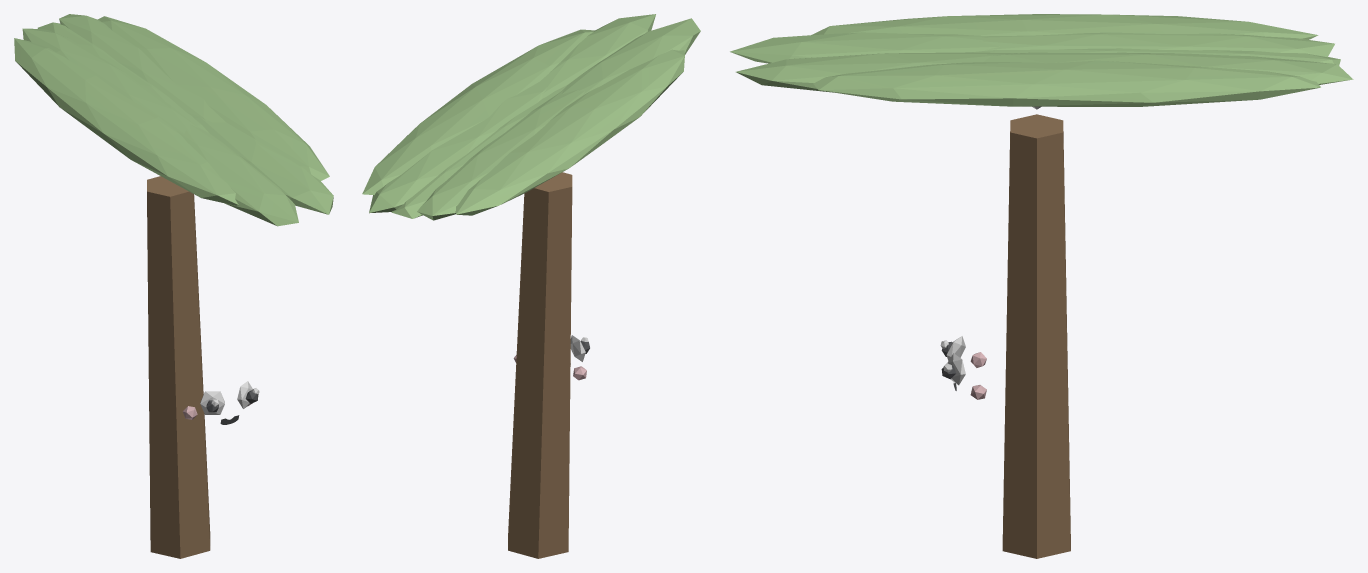
Rendered from calamus-formosanus.glb.
3 renders of one model, left to right at view 1: azimuth 30°, elevation 25°; view 2: azimuth 150°, elevation 25°; view 3: azimuth 270°, elevation 25°, orthographic. The views are drawn at different scales.
Parts seen in each view (by area): view 1: trunk, frond3, frond0, frond2, frond1, frond6, frond4, frond5; view 2: trunk, frond3, frond0, frond6, frond4, frond2, frond1, frond5; view 3: trunk, frond0, frond3, frond4, frond2, frond1, frond6, frond5.
Part boxes in pixels (bbox=[...]): trunk: bbox=[147, 176, 210, 558]; frond3: bbox=[14, 38, 238, 205]; frond0: bbox=[98, 16, 329, 180]; frond2: bbox=[177, 124, 298, 226]; frond1: bbox=[192, 116, 333, 214]; frond6: bbox=[59, 14, 225, 122]; frond4: bbox=[22, 28, 199, 133]; frond5: bbox=[37, 22, 209, 133]; trunk: bbox=[508, 172, 572, 558]; frond3: bbox=[455, 49, 684, 215]; frond0: bbox=[362, 29, 594, 194]; frond6: bbox=[369, 81, 546, 213]; frond4: bbox=[417, 89, 584, 220]; frond2: bbox=[561, 18, 700, 94]; frond1: bbox=[540, 14, 655, 98]; frond5: bbox=[391, 85, 566, 218]; trunk: bbox=[1002, 114, 1070, 558]; frond0: bbox=[813, 60, 1320, 106]; frond3: bbox=[811, 14, 1318, 39]; frond4: bbox=[978, 32, 1334, 57]; frond2: bbox=[730, 32, 999, 63]; frond1: bbox=[736, 52, 1017, 92]; frond6: bbox=[983, 52, 1353, 84]; frond5: bbox=[973, 48, 1340, 65].
Bounding box in the file's own units: 0.2281 × 0.63 × 0.7148.
